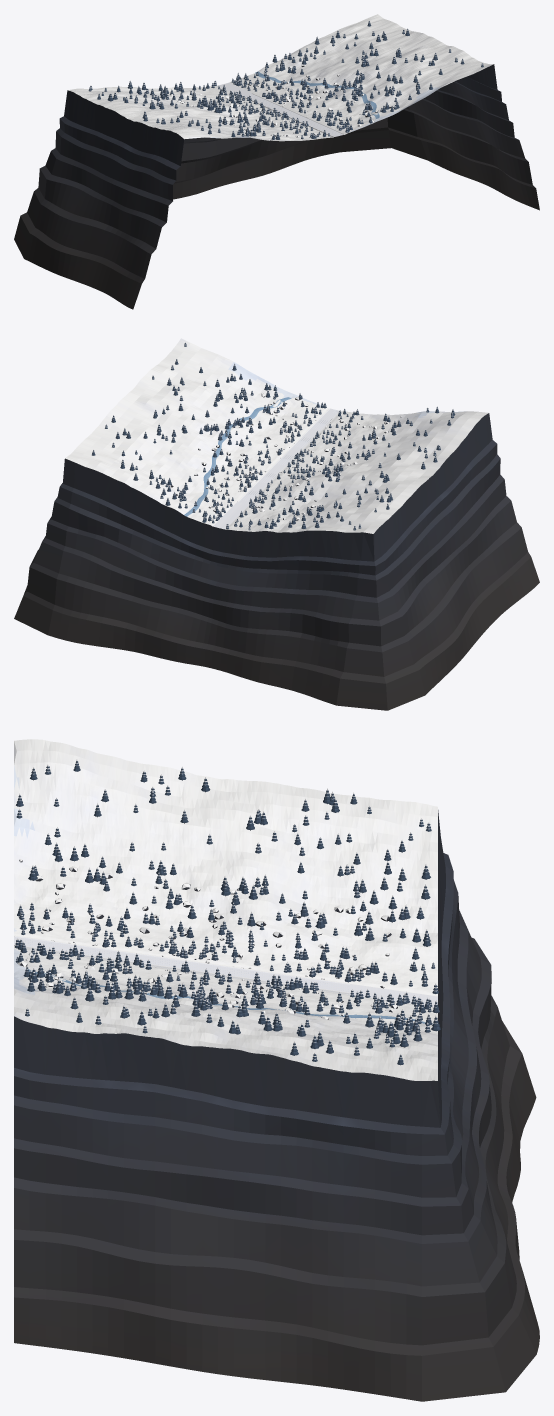
3 renders of one model, top to bottom at view 1: azimuth 30°, elevation 25°; view 2: azimuth 150°, elevation 25°; view 3: azimuth 270°, elevation 25°, orthographic. The views are drawn at different scales.
Parts seen in each view (by area): view 1: S01_Terrain_L_-420, S01_Terrain_R_-420, S01_Terrain_R_13, S01_Terrain_R_446, S01_Terrain_L_446, S01_Terrain_L_13, S01_Pines_02, S01_Pines_01, S01_Pines_04, S01_Pines_05, S01_Pines_03, S01_StartDeck (+3 smaller); view 2: S01_Terrain_R_-420, S01_Terrain_L_-420, S01_Terrain_R_446, S01_Terrain_R_13, S01_Terrain_L_13, S01_Terrain_L_446, S01_StartDeck, S01_Pines_02, S01_Pines_04, S01_Pines_01, S01_Pines_05, S01_Pines_03 (+4 smaller); view 3: S01_Terrain_L_-420, S01_Terrain_L_13, S01_Terrain_L_446, S01_Terrain_R_-420, S01_Terrain_R_446, S01_Terrain_R_13, S01_Pines_04, S01_Pines_05, S01_Pines_02, S01_Pines_01, S01_Pines_03, S01_Rocks_01 (+4 smaller).
Part boxes in pixels (x1=…): S01_Terrain_L_-420: x1=206, y1=14, x2=461, y2=190; S01_Terrain_R_-420: x1=14, y1=86, x2=253, y2=274; S01_Terrain_R_13: x1=57, y1=103, x2=291, y2=290; S01_Terrain_R_446: x1=100, y1=120, x2=333, y2=309; S01_Terrain_L_446: x1=307, y1=47, x2=539, y2=210; S01_Terrain_L_13: x1=268, y1=32, x2=501, y2=192; S01_Pines_02: x1=273, y1=47, x2=451, y2=118; S01_Pines_01: x1=231, y1=20, x2=409, y2=98; S01_Pines_04: x1=88, y1=80, x2=257, y2=106; S01_Pines_05: x1=142, y1=99, x2=303, y2=128; S01_Pines_03: x1=214, y1=57, x2=483, y2=132; S01_StartDeck: x1=196, y1=82, x2=251, y2=194; S01_Terrain_R_-420: x1=204, y1=490, x2=460, y2=710; S01_Terrain_L_-420: x1=14, y1=419, x2=251, y2=664; S01_Terrain_R_446: x1=302, y1=411, x2=539, y2=620; S01_Terrain_R_13: x1=264, y1=450, x2=495, y2=660; S01_Terrain_L_13: x1=103, y1=378, x2=289, y2=486; S01_Terrain_L_446: x1=142, y1=338, x2=329, y2=447; S01_StartDeck: x1=192, y1=501, x2=249, y2=666; S01_Pines_02: x1=152, y1=375, x2=294, y2=480; S01_Pines_04: x1=234, y1=480, x2=392, y2=530; S01_Pines_01: x1=92, y1=415, x2=251, y2=523; S01_Pines_05: x1=271, y1=434, x2=440, y2=483; S01_Pines_03: x1=171, y1=342, x2=326, y2=530; S01_Terrain_L_-420: x1=296, y1=988, x2=539, y2=1401; S01_Terrain_L_13: x1=155, y1=967, x2=296, y2=1383; S01_Terrain_L_446: x1=14, y1=946, x2=155, y2=1363; S01_Terrain_R_-420: x1=296, y1=787, x2=536, y2=1202; S01_Terrain_R_446: x1=14, y1=739, x2=155, y2=955; S01_Terrain_R_13: x1=155, y1=765, x2=296, y2=975; S01_Pines_04: x1=271, y1=788, x2=431, y2=986; S01_Pines_05: x1=105, y1=767, x2=273, y2=970; S01_Pines_02: x1=115, y1=953, x2=282, y2=1034; S01_Pines_01: x1=277, y1=976, x2=440, y2=1065; S01_Pines_03: x1=15, y1=938, x2=438, y2=1024; S01_Rocks_01: x1=17, y1=859, x2=397, y2=1032.
Size of the model in its own units: 2598 by 1169 by 1594.
1 material, 1 textured.
